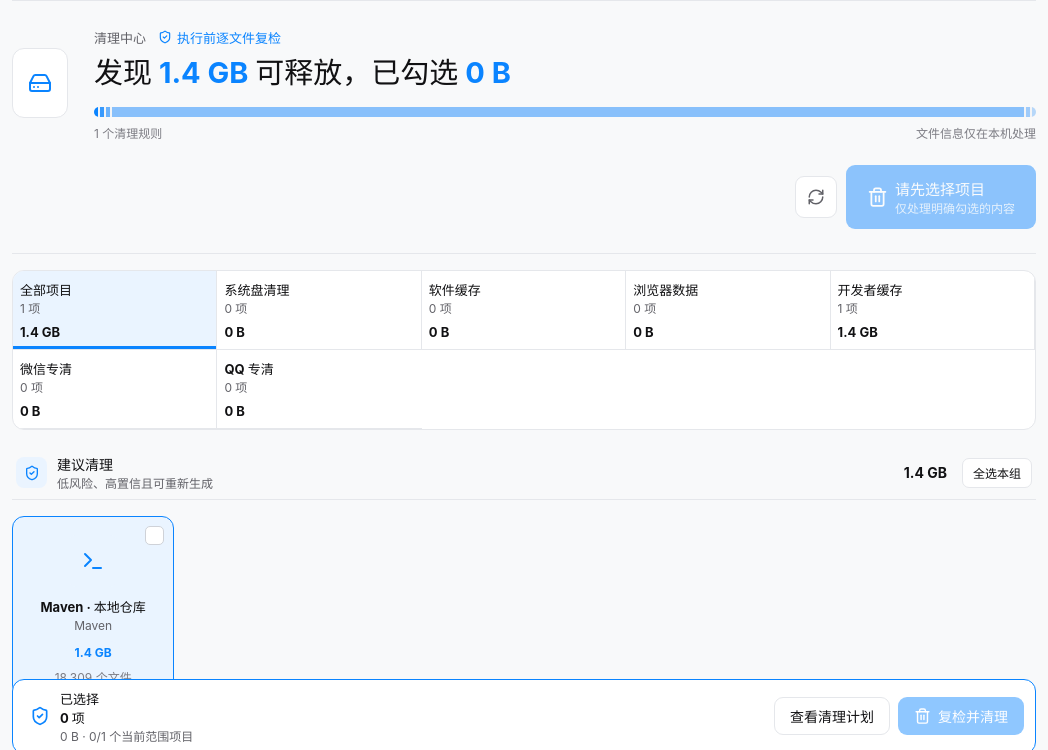
developer cache cleanup scope › gives developer caches their own tab instead of listing them as Windows items
Click the tab "开发者缓存 1 项 1.4 GB": (933, 311) [831,271,1035,350]
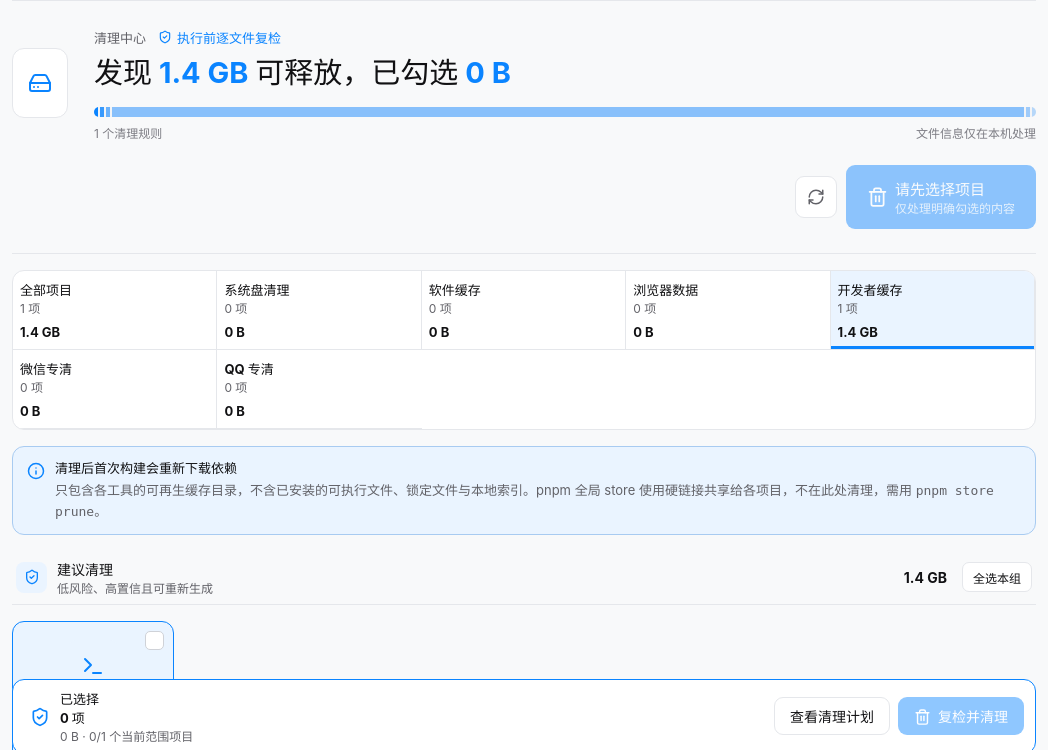
Expected: the text "Maven" is shown, [74,722,112,738]
Result: the text "清理后首次构建会重新下载依赖" is shown at [55,460,237,476]
Result: the text "pnpm store prune" is shown at [55,483,994,519]
